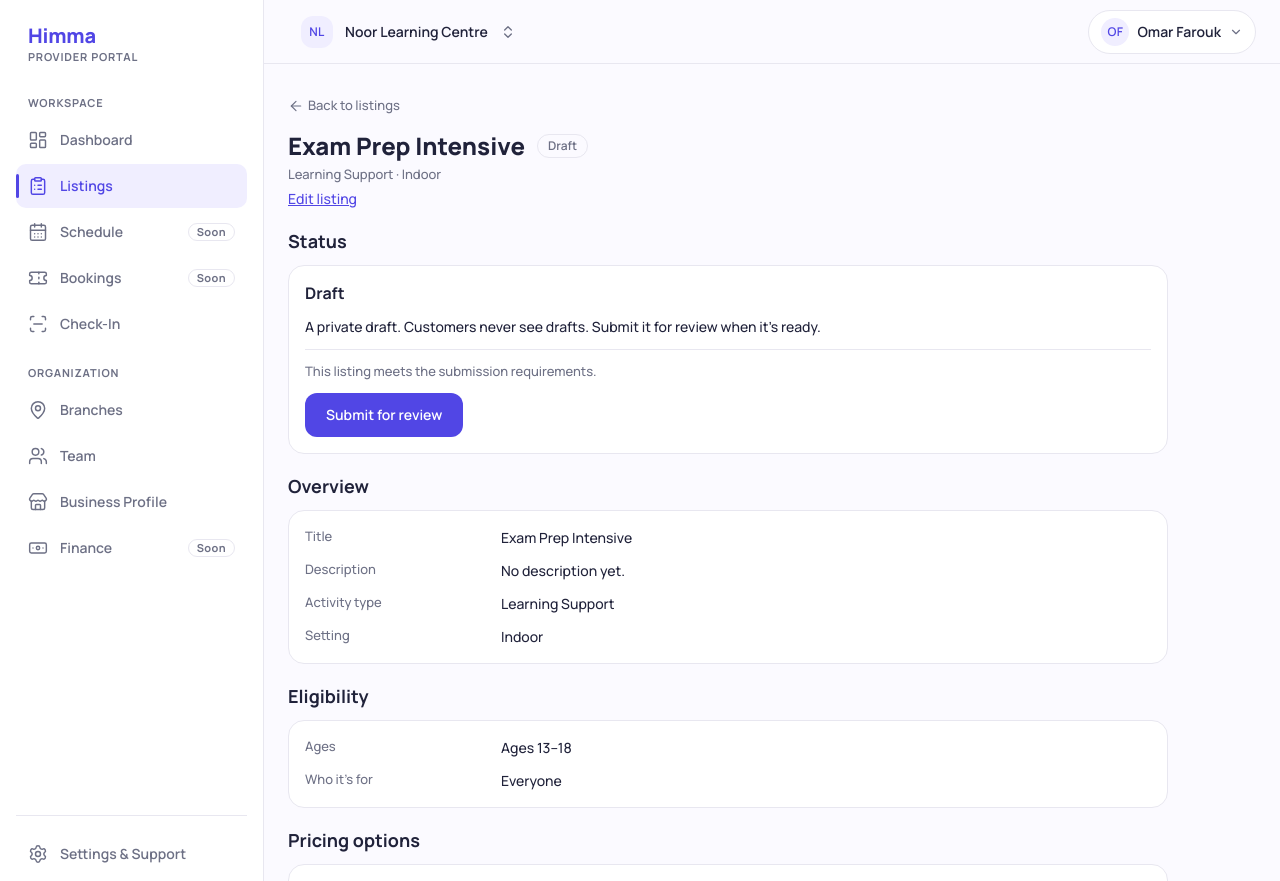
listing lifecycle UX — submit path (W2-9) › a server-side completeness refusal renders the EXACT structured missing items (never invented)
The width and height of the screenshot is (1280, 881).
Expected: the heading "Exam Prep Intensive" is shown, [288, 130, 525, 160]
Click the button "Submit for review" at [384, 414], box [305, 392, 463, 436]
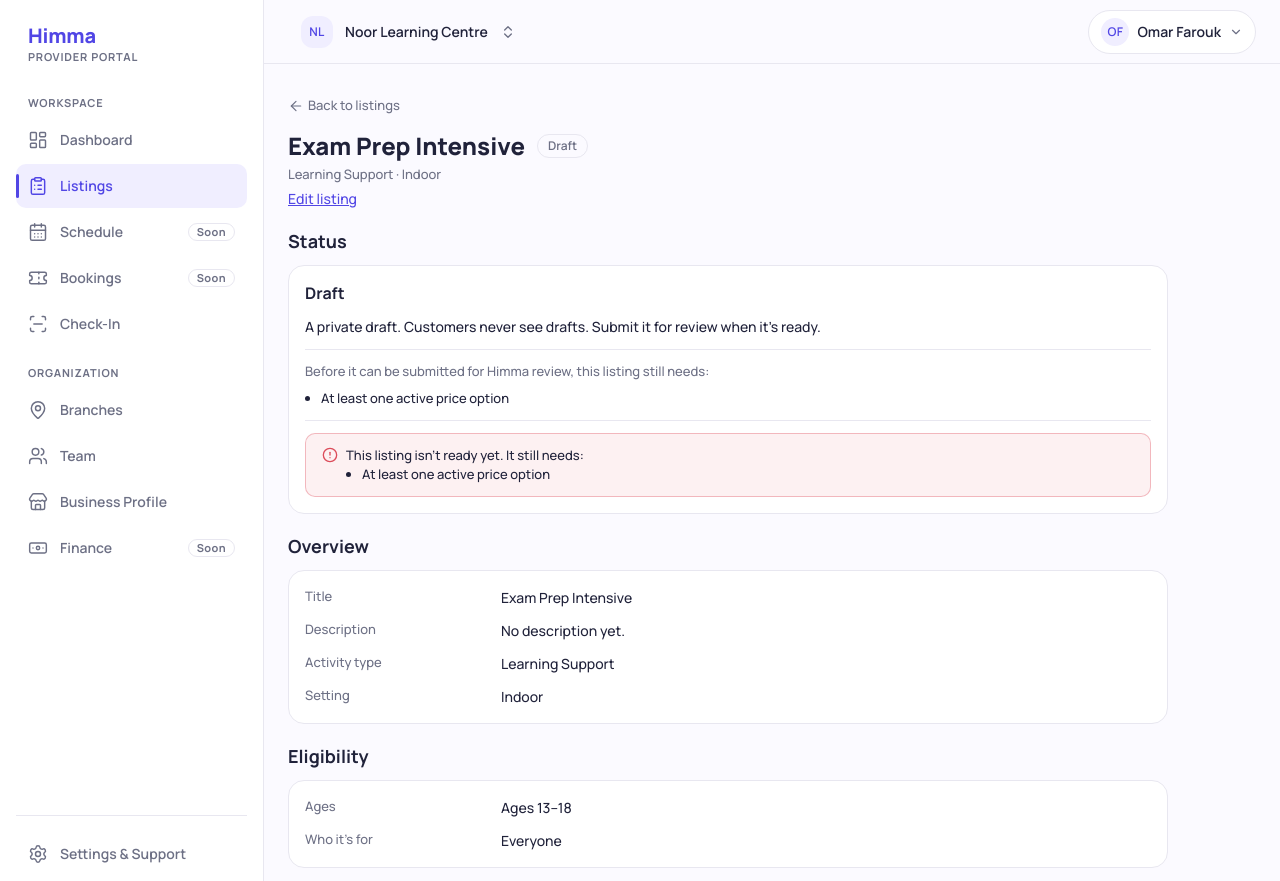
Expected: the 1st text "Draft" is shown, [537, 134, 588, 158]
Expected: the text "isn’t ready yet. It still needs:" is shown, [346, 446, 584, 464]
Expected: the 1st list item "At least one active price option" is shown, [321, 388, 509, 406]
